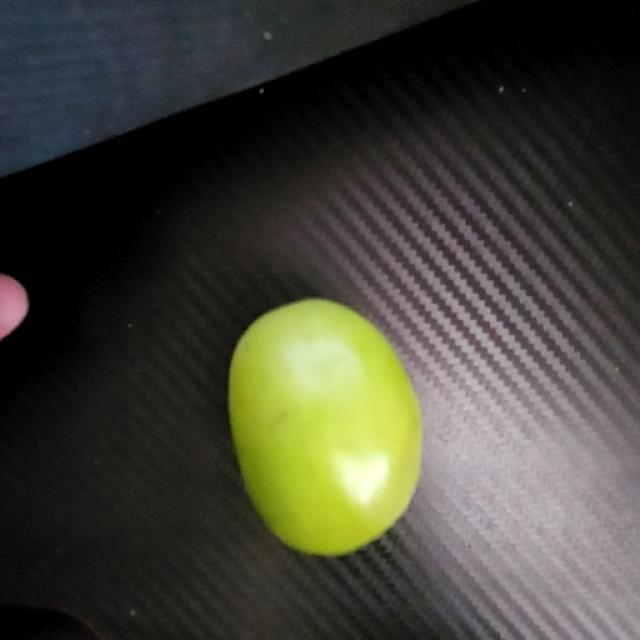Red: (225, 295, 424, 558)
